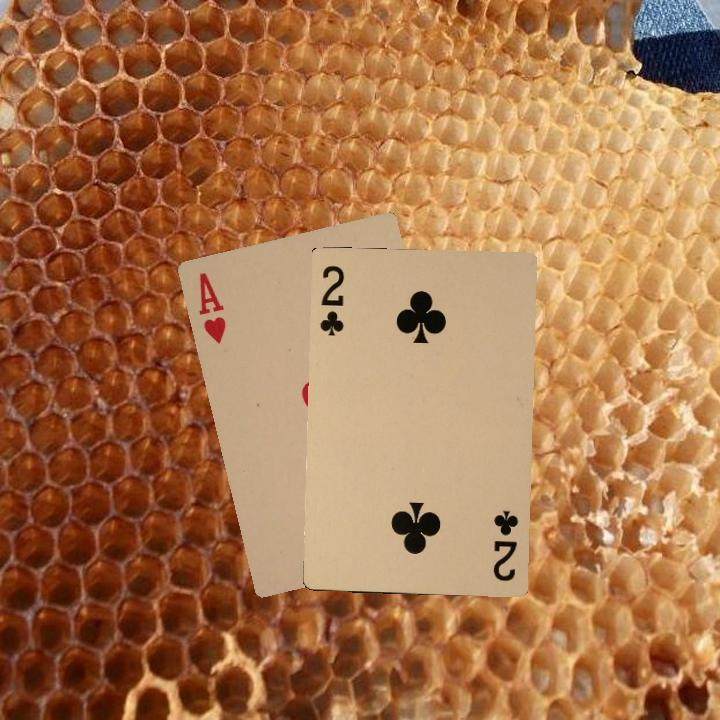2c: (489, 506, 521, 584), (315, 261, 347, 338)
Ah: (194, 268, 229, 346)
